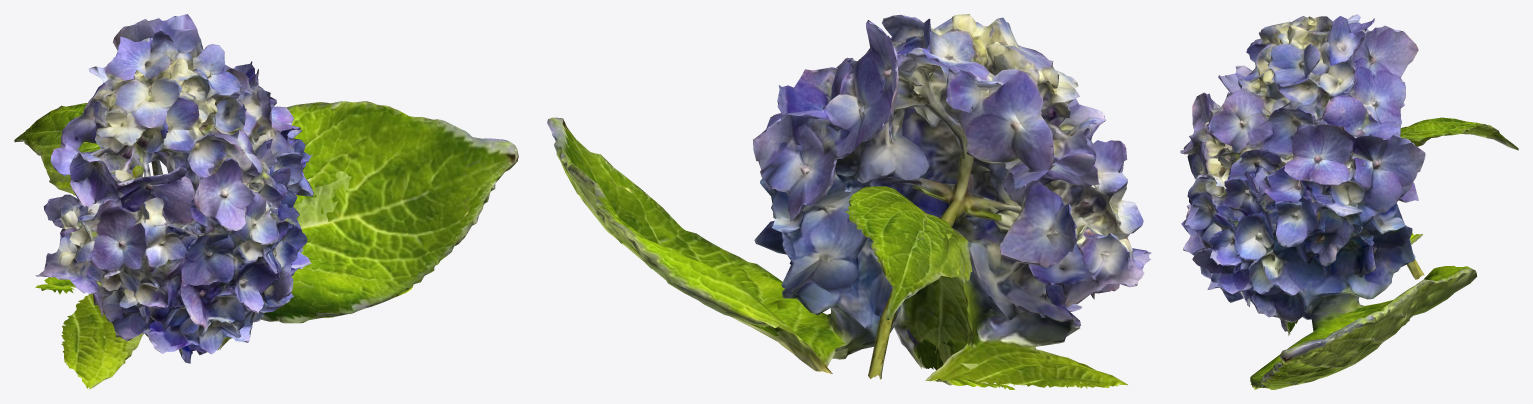
File: hydrangea.glb
3 renders of one model, left to right at view 1: azimuth 30°, elevation 25°; view 2: azimuth 150°, elevation 25°; view 3: azimuth 270°, elevation 25°, orthographic. The views are drawn at different scales.
Visible parts, largest first — view 1: Object_2; view 2: Object_2; view 3: Object_2.
Boxes of the visible parts, left/top/right/bottom form: Object_2: left=14, top=14, right=518, bottom=389; Object_2: left=547, top=14, right=1151, bottom=389; Object_2: left=1180, top=14, right=1518, bottom=389.
Size of the model in its own units: 0.6429 by 0.3977 by 0.3991.
1 material, 1 textured.
